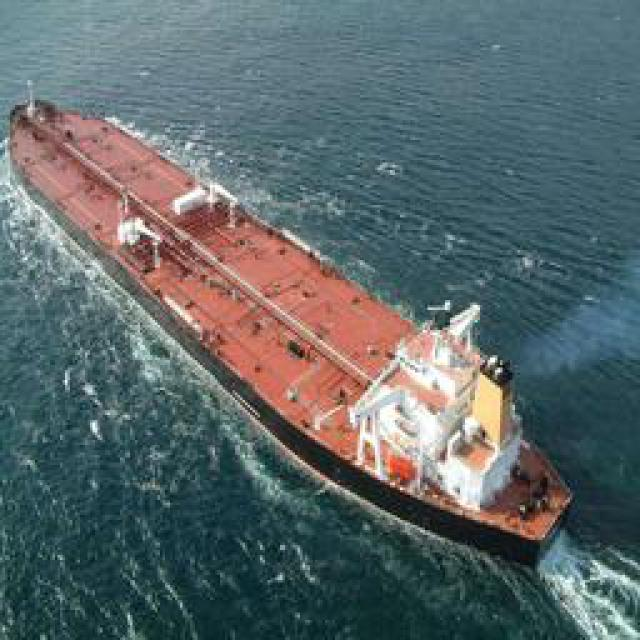Ship: (7, 86, 550, 554)
